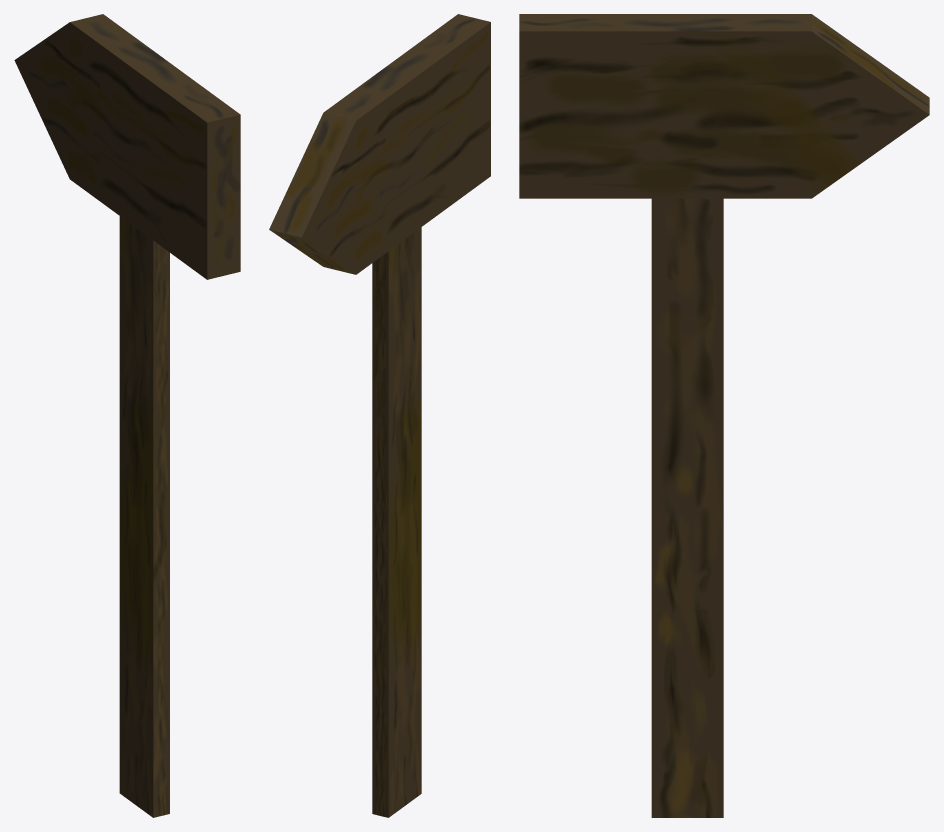
File: signpost.fbx
The picture shows the model from 3 angles, left to right: view 1: azimuth 30°, elevation 25°; view 2: azimuth 150°, elevation 25°; view 3: azimuth 270°, elevation 25°; orthographic projection. The views are drawn at different scales.
Parts seen in each view (by area): view 1: Signpost; view 2: Signpost; view 3: Signpost.
Part boxes in pixels (x1,y1,x2,y2): Signpost: [14, 14, 240, 817]; Signpost: [269, 14, 490, 817]; Signpost: [519, 14, 929, 817].
Size of the model in its own units: 0.04 by 0.8505 by 0.4.
2 materials, 2 textured.
